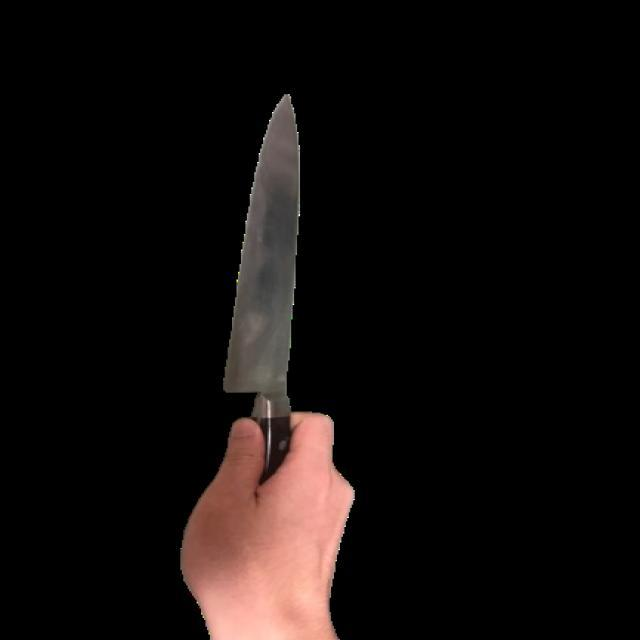knife: (167, 70, 353, 639)
